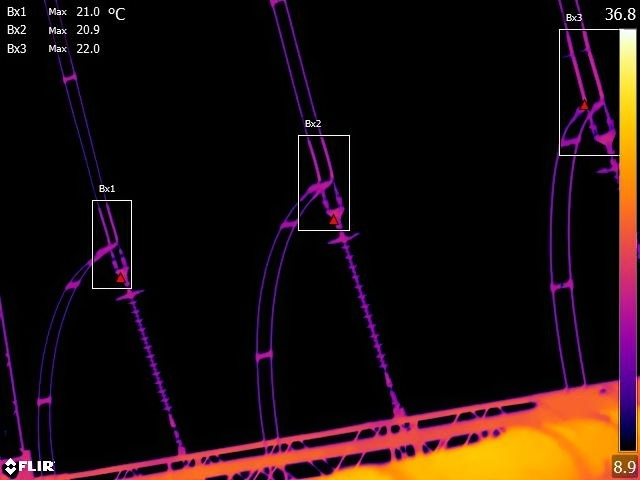clamp: (571, 88, 615, 123), (302, 166, 343, 197), (94, 229, 126, 260)
insulator: (327, 219, 406, 397), (113, 277, 183, 436)
